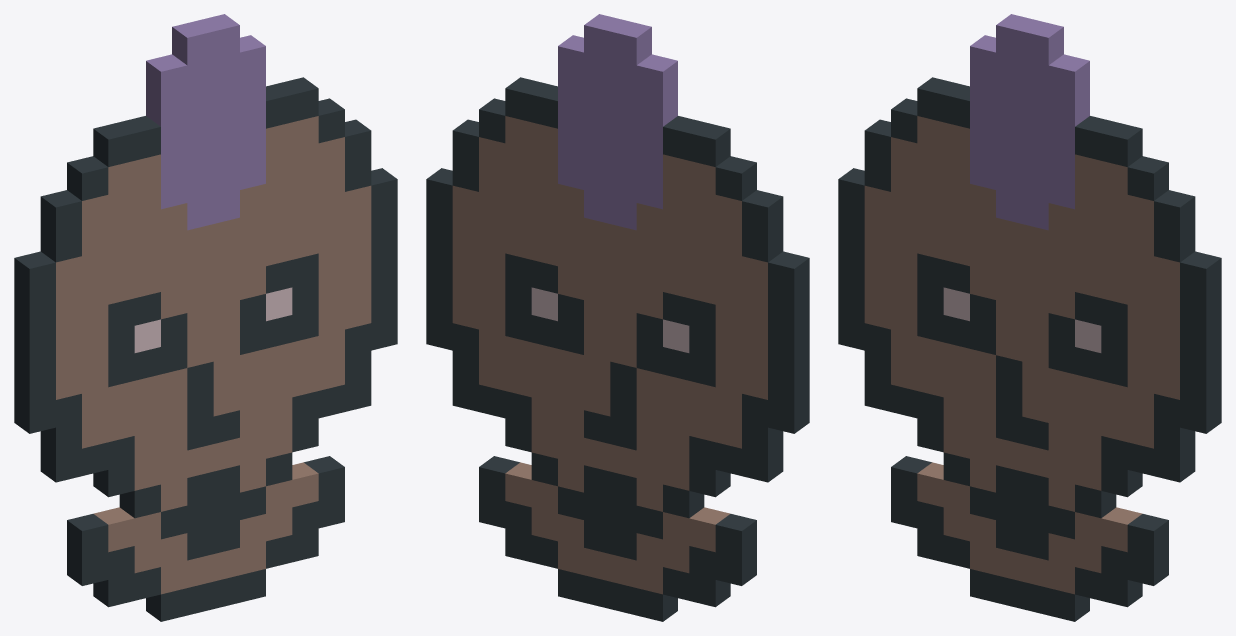
3 views of the same model, side by side, from view 1: azimuth 30°, elevation 25°; view 2: azimuth 150°, elevation 25°; view 3: azimuth 330°, elevation 25° (orthographic).
Size of the model in its own units: 0.7 by 1.05 by 0.05.
